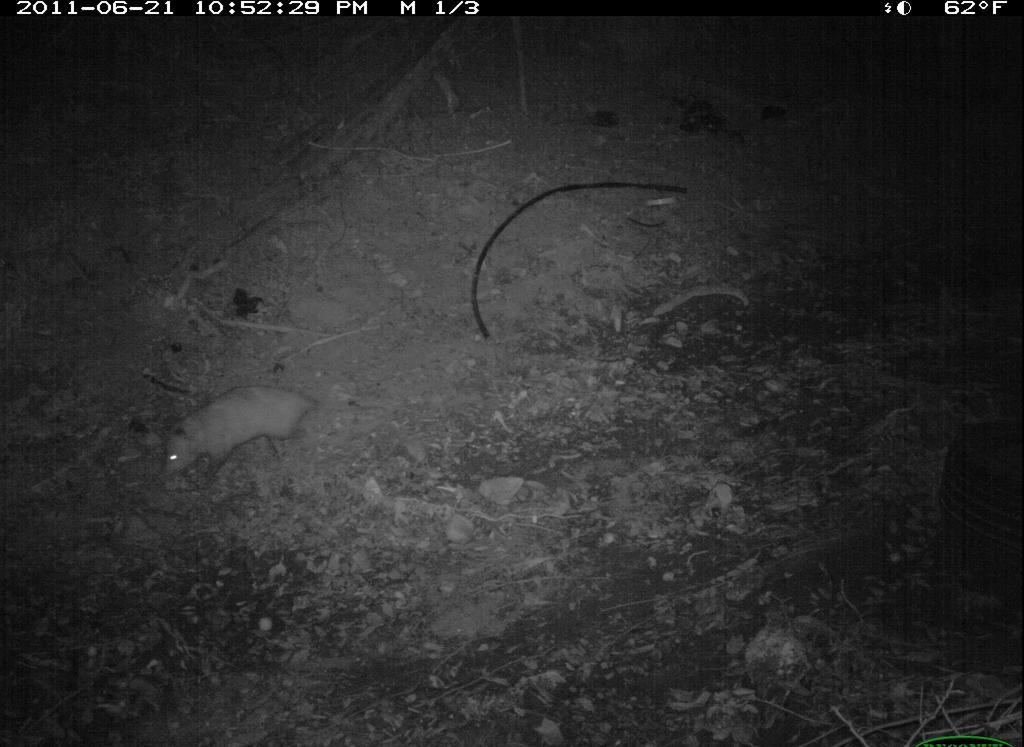opossum: (149, 374, 345, 505)
